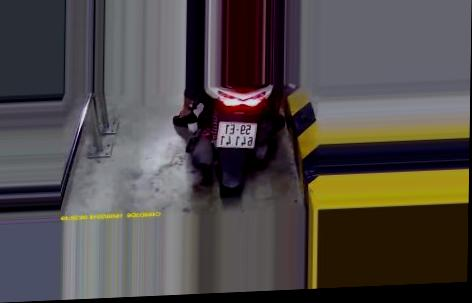License_Plate: (214, 118, 261, 152)
